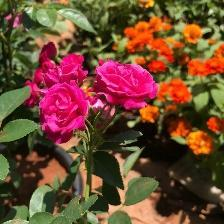rose: (89, 57, 159, 111), (38, 82, 91, 149)
